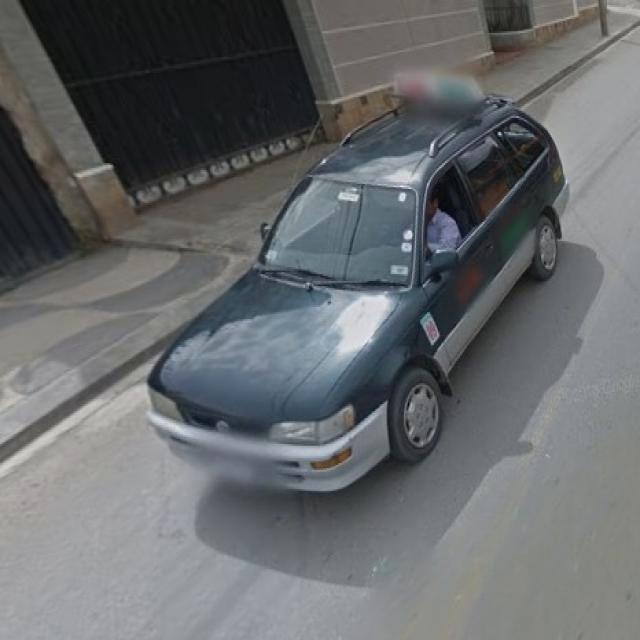Car: (137, 109, 568, 491)
